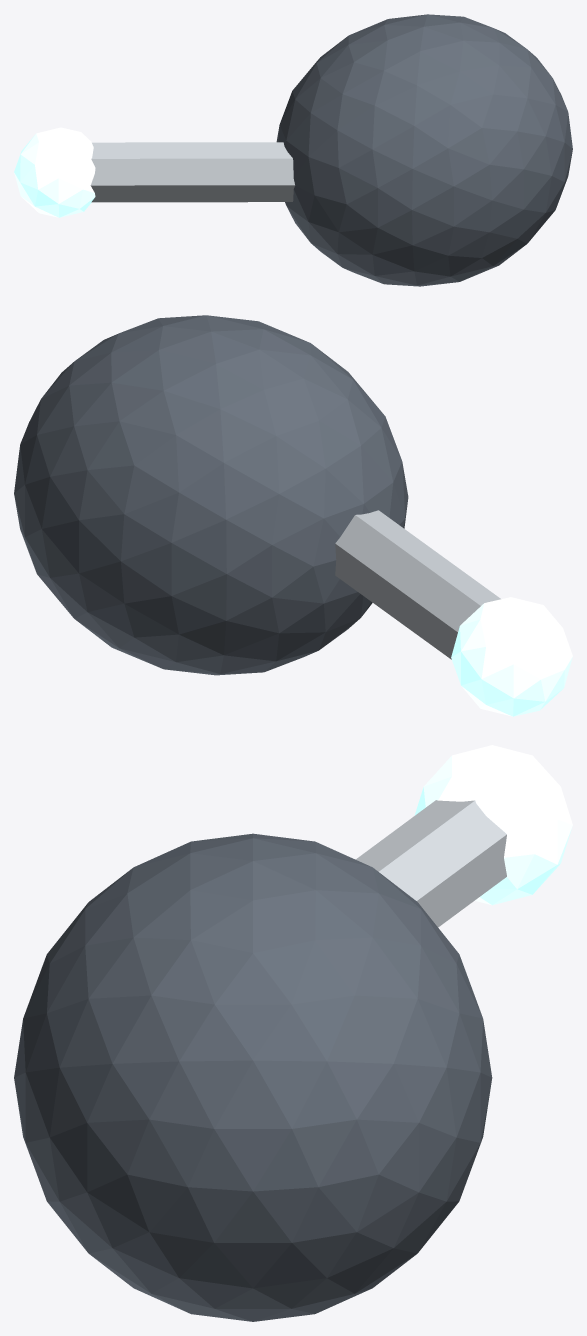
Rendered from agarre_2.glb.
3 views of the same model, one above another, from view 1: azimuth 30°, elevation 25°; view 2: azimuth 150°, elevation 25°; view 3: azimuth 270°, elevation 25° (orthographic). The views are drawn at different scales.
Parts seen in each view (by area): view 1: nucleo, brazo, punta; view 2: nucleo, brazo, punta; view 3: nucleo, punta, brazo.
Part boxes in pixels (x1=…): nucleo: x1=276, y1=14, x2=572, y2=286; brazo: x1=90, y1=142, x2=294, y2=202; punta: x1=14, y1=127, x2=95, y2=217; nucleo: x1=14, y1=315, x2=408, y2=675; brazo: x1=335, y1=510, x2=500, y2=659; punta: x1=451, y1=597, x2=572, y2=716; nucleo: x1=14, y1=833, x2=492, y2=1321; punta: x1=414, y1=745, x2=572, y2=905; brazo: x1=356, y1=800, x2=506, y2=927.
Size of the model in its own units: 0.9 by 0.4543 by 0.5309.
